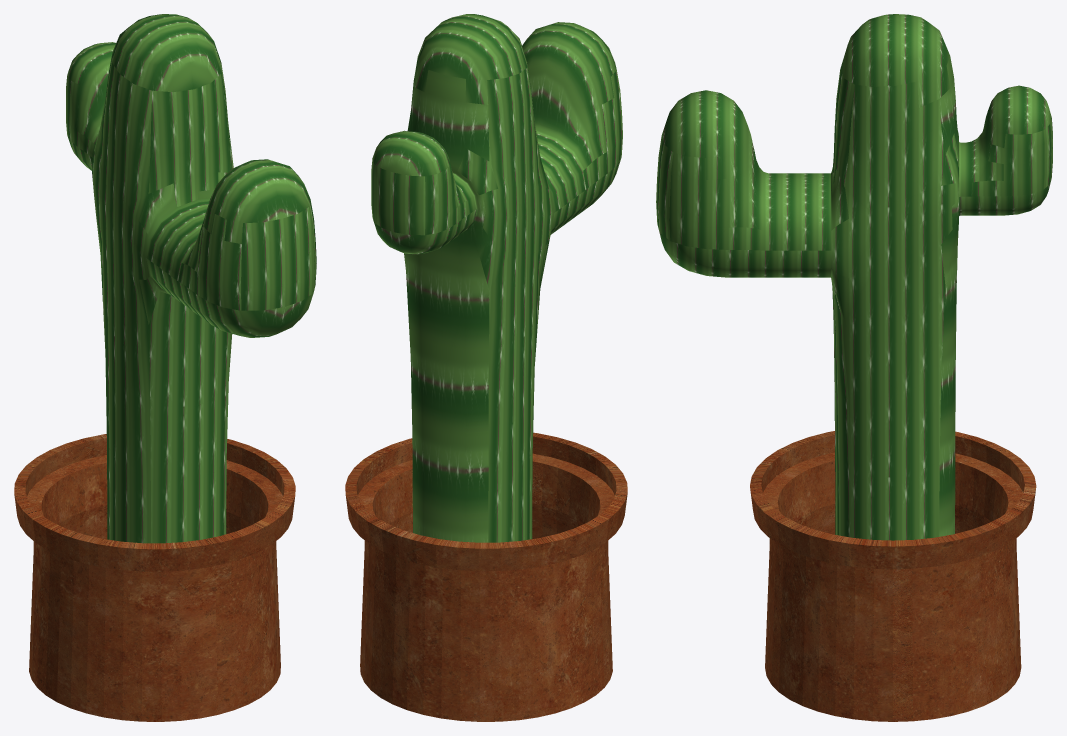
The model's file is KaktusMitTopf.fbx.
3 views of the same model, side by side, from view 1: azimuth 30°, elevation 25°; view 2: azimuth 150°, elevation 25°; view 3: azimuth 270°, elevation 25° (orthographic).
Parts seen in each view (by area): view 1: Cube, Circle; view 2: Cube, Circle; view 3: Cube, Circle.
Part boxes in pixels (box(x1,y1,x2,y2)): Cube: box(66, 14, 316, 543); Circle: box(14, 434, 295, 721); Cube: box(371, 14, 622, 542); Circle: box(345, 432, 627, 721); Cube: box(656, 14, 1052, 540); Circle: box(750, 431, 1036, 721).
Size of the model in its own units: 449 by 621 by 1128.
Materials: 2 (2 with a texture image).
